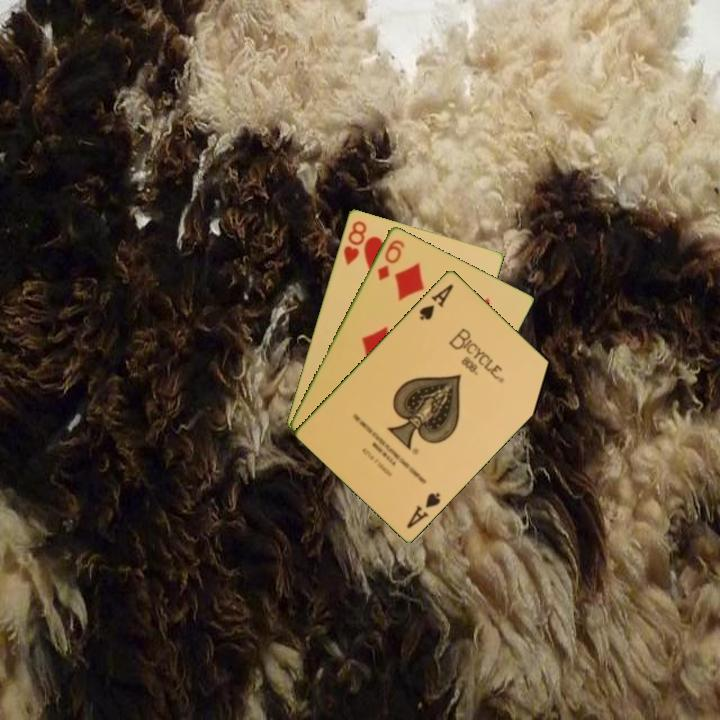6d: (374, 236, 407, 283)
8h: (340, 217, 369, 268)
As: (415, 280, 456, 323), (403, 489, 444, 531)
